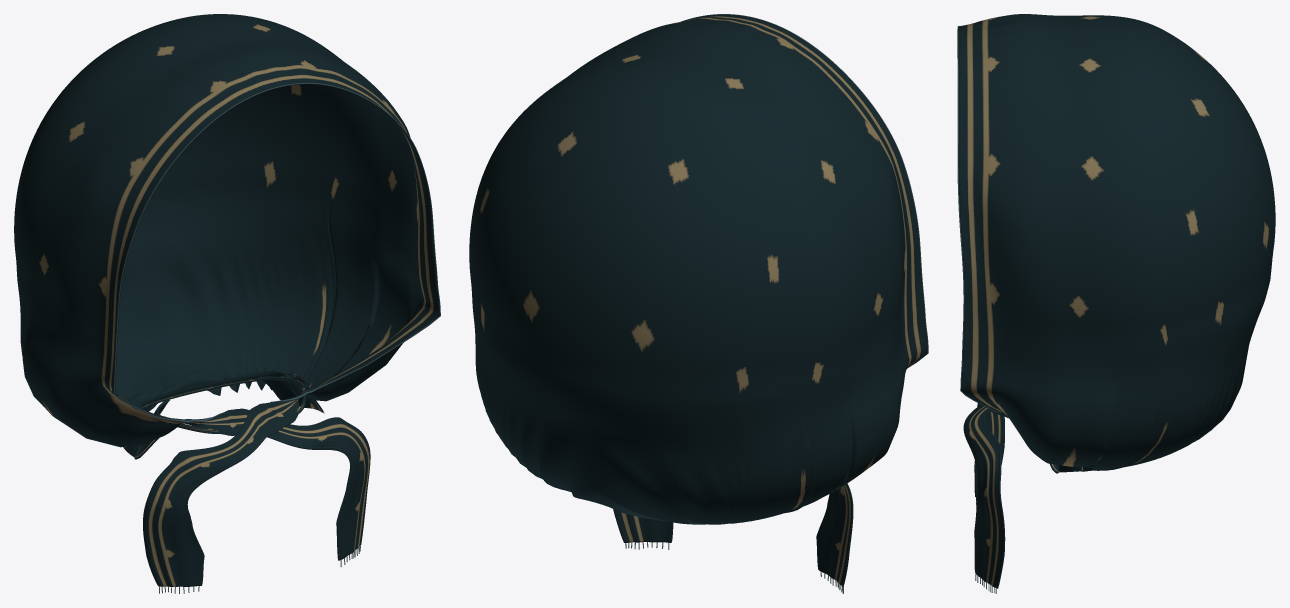
The model's file is Masculine-Masculine-flow-buttonup-pashmina250-headgear-a7dd7407.glb.
3 renders of one model, left to right at view 1: azimuth 30°, elevation 25°; view 2: azimuth 150°, elevation 25°; view 3: azimuth 270°, elevation 25°, orthographic. The views are drawn at different scales.
Parts seen in each view (by area): view 1: 226 headgear / Headwear / continuous woven pashmina239, 226 headgear / Headwear / face edge239; view 2: 226 headgear / Headwear / continuous woven pashmina239, 226 headgear / Headwear / face edge239; view 3: 226 headgear / Headwear / continuous woven pashmina239, 226 headgear / Headwear / face edge239.
Part boxes in pixels (x1,y1,x2,y2): 226 headgear / Headwear / continuous woven pashmina239: [14, 14, 439, 586]; 226 headgear / Headwear / face edge239: [114, 83, 440, 422]; 226 headgear / Headwear / continuous woven pashmina239: [469, 14, 927, 586]; 226 headgear / Headwear / face edge239: [680, 14, 928, 368]; 226 headgear / Headwear / continuous woven pashmina239: [958, 14, 1275, 588]; 226 headgear / Headwear / face edge239: [957, 26, 1004, 413].
Size of the model in its own units: 0.9061 by 1.24 by 0.6906.
Materials: 3 (1 with a texture image).
